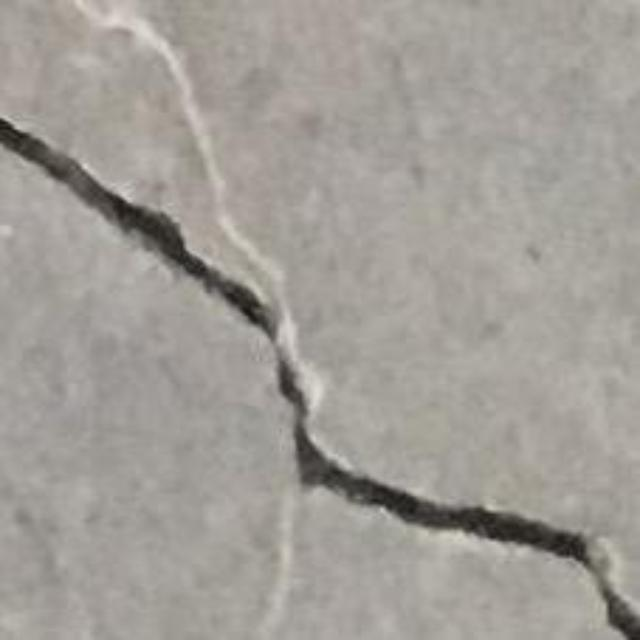crack: (0, 116, 639, 639)
